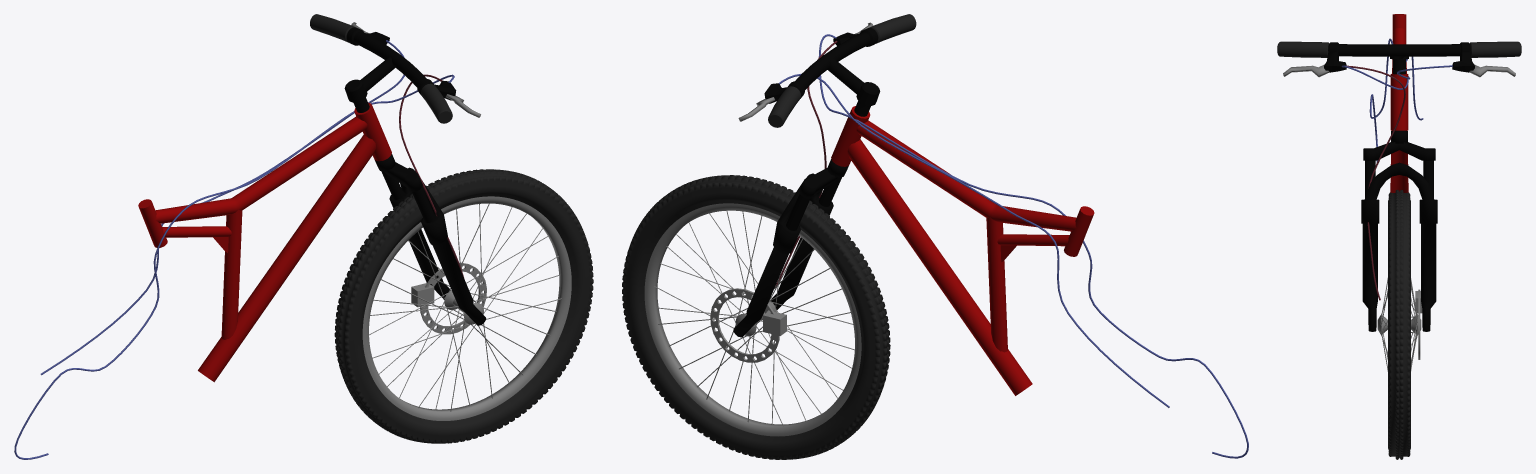
Rendered from decabikeMat.FBX.
3 views of the same model, side by side, from view 1: azimuth 30°, elevation 25°; view 2: azimuth 150°, elevation 25°; view 3: azimuth 270°, elevation 25° (orthographic). The views are drawn at different scales.
Parts seen in each view (by area): view 1: Torus001, Line04, Object03, Object005, Line51, Line53; view 2: Torus001, Line04, Object03, Object005, Line51, Line53; view 3: Object03, Torus001, Line04, Object005, Object006, Line52, Line51, Line53.
Boxes of the visible parts, bbox=[...] form: Torus001: bbox=[334, 169, 593, 443]; Line04: bbox=[138, 102, 391, 382]; Object03: bbox=[310, 14, 486, 325]; Object005: bbox=[369, 203, 561, 411]; Line51: bbox=[14, 74, 454, 459]; Line53: bbox=[40, 40, 404, 375]; Torus001: bbox=[622, 175, 890, 459]; Line04: bbox=[831, 106, 1094, 395]; Object03: bbox=[733, 14, 916, 337]; Object005: bbox=[654, 210, 854, 426]; Line51: bbox=[818, 34, 1248, 458]; Line53: bbox=[779, 74, 1169, 407]; Object03: bbox=[1277, 41, 1521, 331]; Torus001: bbox=[1388, 189, 1410, 459]; Line04: bbox=[1390, 14, 1408, 192]; Object005: bbox=[1377, 278, 1422, 371]; Object006: bbox=[1283, 64, 1515, 77]; Line52: bbox=[1346, 65, 1405, 300]; Line51: bbox=[1341, 38, 1408, 162]; Line53: bbox=[1397, 56, 1452, 120].
Bounding box in the file's own units: 147 × 96.11 × 57.36.
